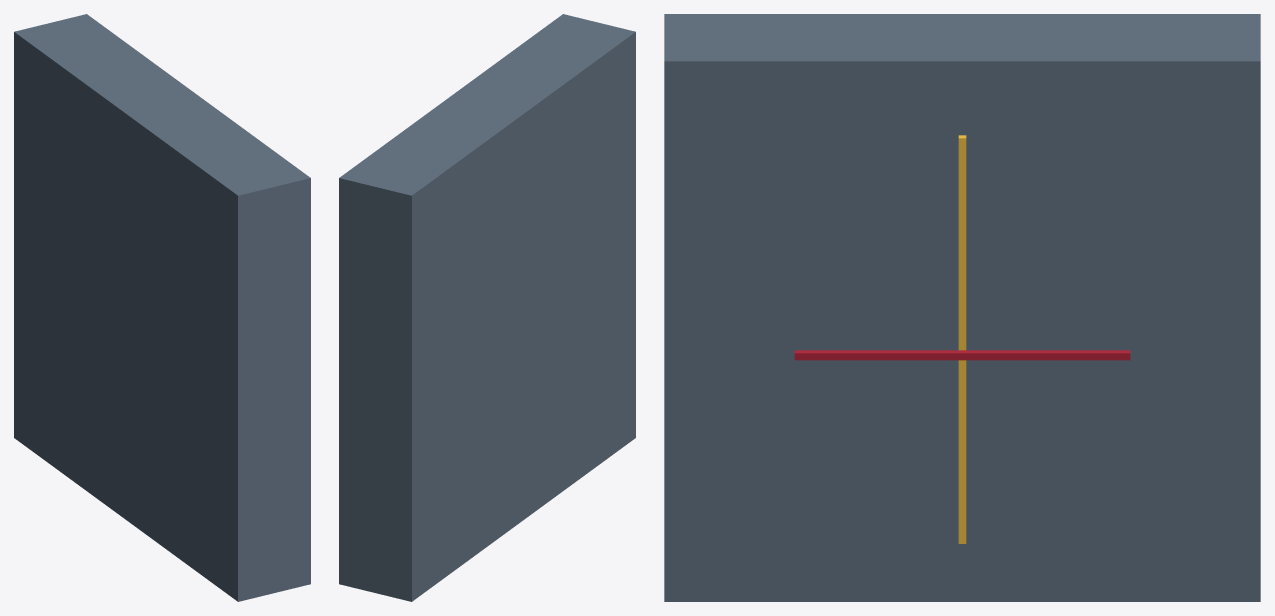
Rendered from crossed-bars.glb.
The picture shows the model from 3 angles, left to right: view 1: azimuth 30°, elevation 25°; view 2: azimuth 150°, elevation 25°; view 3: azimuth 270°, elevation 25°; orthographic projection. The views are drawn at different scales.
Visible parts, largest first — view 1: back_plate; view 2: back_plate; view 3: back_plate, Z_bar, Y_bar.
Boxes of the visible parts, box(x1,y1,x2,y2) form: back_plate: box(14, 14, 310, 601); back_plate: box(339, 14, 635, 601); back_plate: box(664, 14, 1260, 601); Z_bar: box(794, 350, 1130, 360); Y_bar: box(958, 135, 966, 543).
Size of the model in its own units: 4.6 by 16 by 16.
